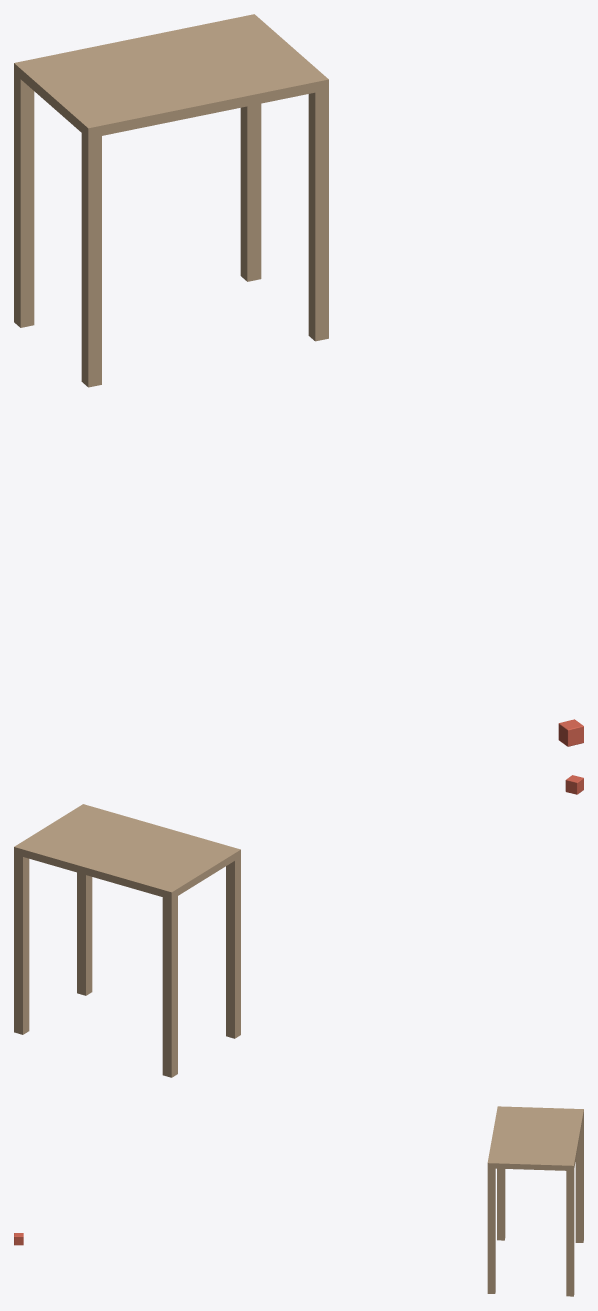
Rendered from hum_19_inhand_flip270_props.glb.
3 views of the same model, one above another, from view 1: azimuth 30°, elevation 25°; view 2: azimuth 150°, elevation 25°; view 3: azimuth 270°, elevation 25° (orthographic). The views are drawn at different scales.
Parts seen in each view (by area): view 1: s_mesh_00; view 2: s_mesh_00; view 3: s_mesh_00.
Boxes of the visible parts, box(x1,y1,x2,y2) form: s_mesh_00: box(14, 14, 328, 387); s_mesh_00: box(14, 804, 240, 1077); s_mesh_00: box(487, 1106, 583, 1296).
Size of the model in its own units: 0.7322 by 0.775 by 2.96.
